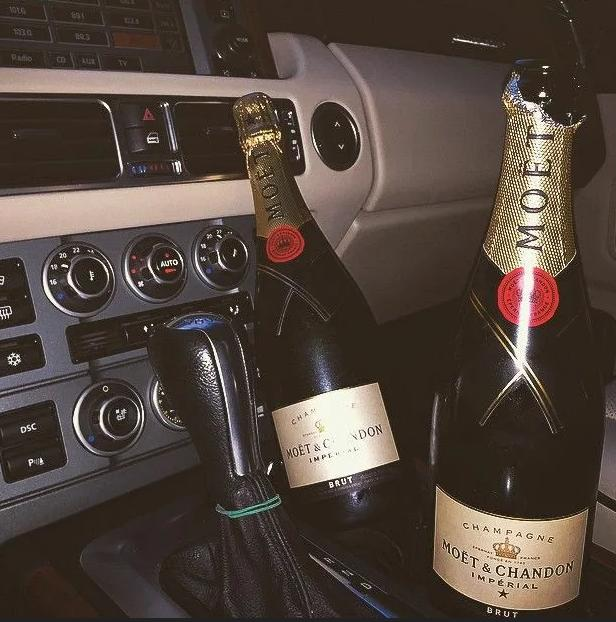wine bottle: (426, 55, 606, 622), (230, 93, 420, 530)
wine label: (427, 480, 590, 621), (271, 378, 404, 504)
